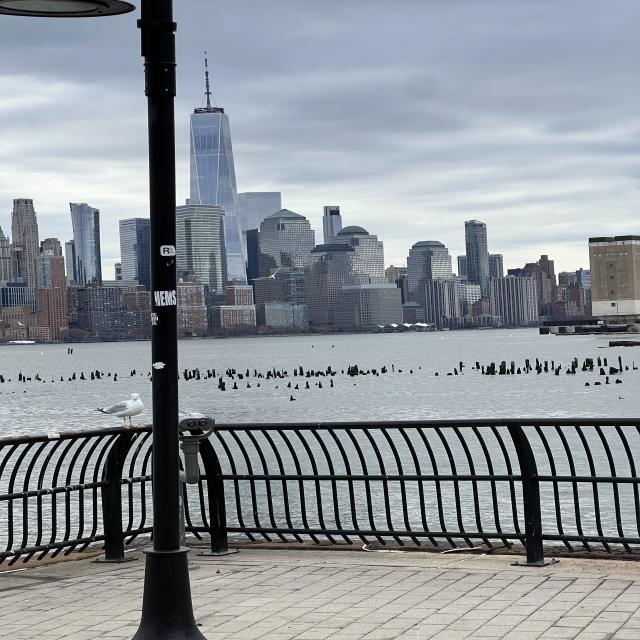WTC: (186, 52, 241, 206)
